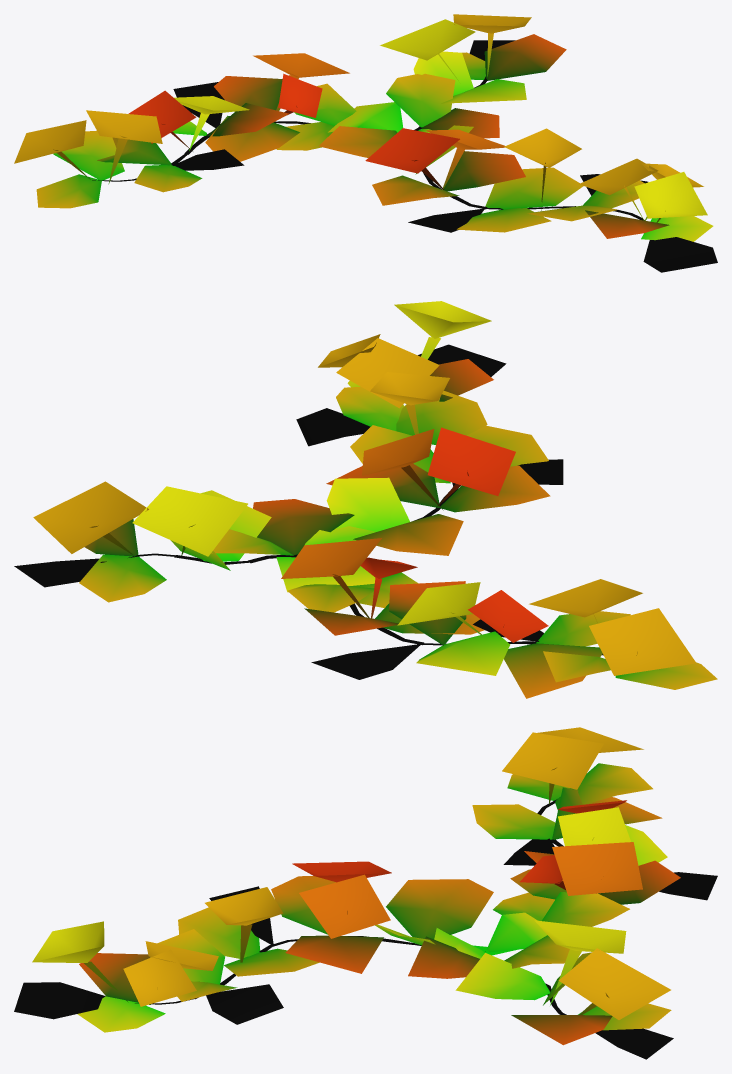
File: Var1_LOD1.fbx
The picture shows the model from 3 angles, top to bottom: view 1: azimuth 30°, elevation 25°; view 2: azimuth 150°, elevation 25°; view 3: azimuth 270°, elevation 25°; orthographic projection. The views are drawn at different scales.
Parts seen in each view (by area): view 1: _f4c5_Var1_LOD1; view 2: _f4c5_Var1_LOD1; view 3: _f4c5_Var1_LOD1.
Boxes of the visible parts, box(x1,y1,x2,y2) form: _f4c5_Var1_LOD1: box(14, 14, 717, 272); _f4c5_Var1_LOD1: box(14, 301, 717, 698); _f4c5_Var1_LOD1: box(14, 727, 717, 1059).
Size of the model in its own units: 54.18 by 6.39 by 53.24.
